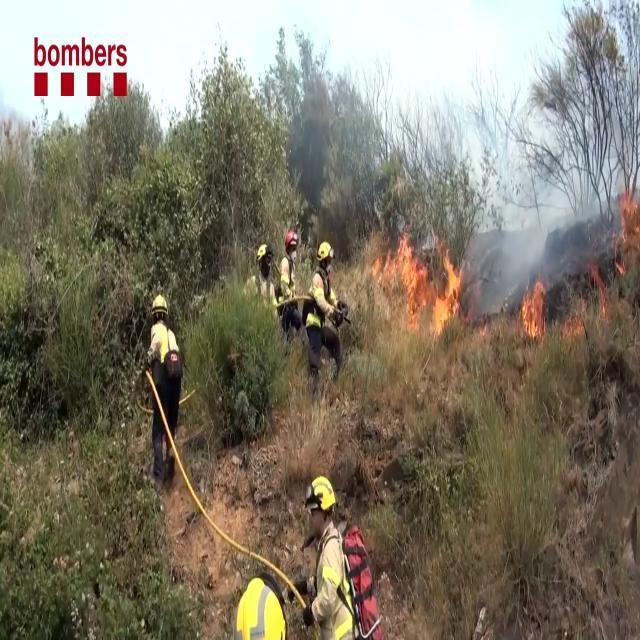Fire: (378, 231, 466, 338), (517, 266, 550, 344)
